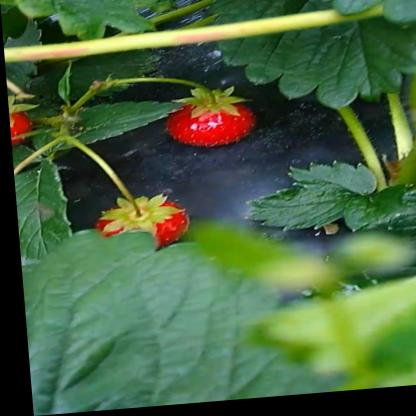ripe: (159, 96, 257, 156), (92, 199, 187, 248), (6, 93, 38, 153)
